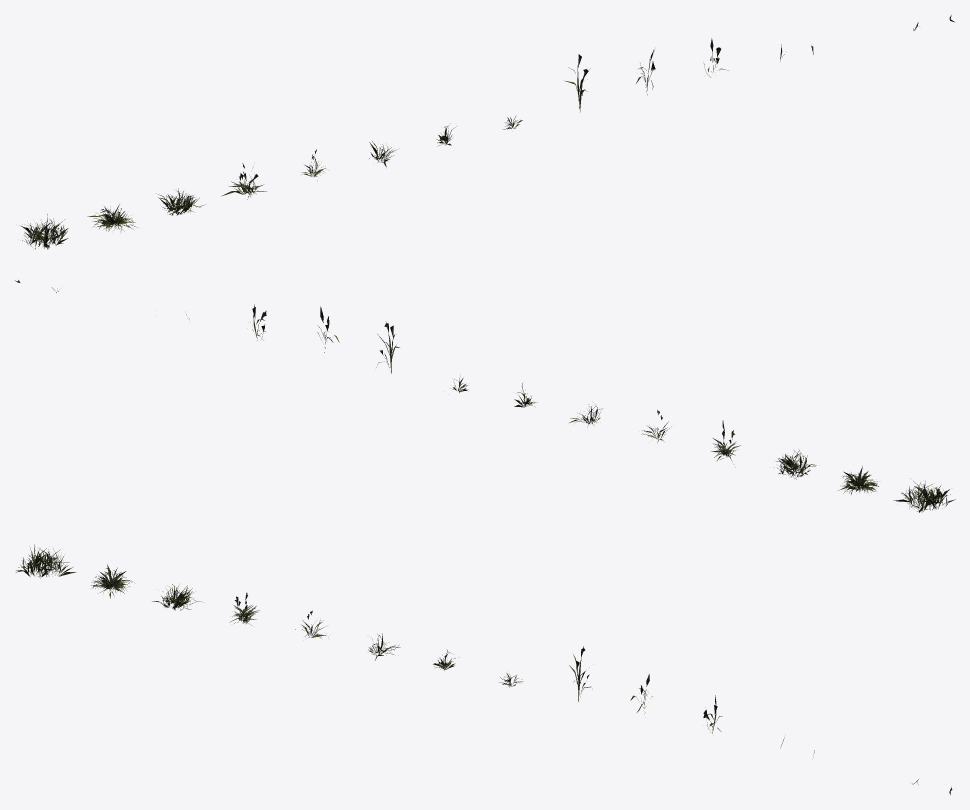
Rendered from grass_medium_01_2k.glb.
3 renders of one model, top to bottom at view 1: azimuth 30°, elevation 25°; view 2: azimuth 150°, elevation 25°; view 3: azimuth 330°, elevation 25°, orthographic.
Parts seen in each view (by area): view 1: grass_medium_01_small_a_LOD0; view 2: grass_medium_01_small_a_LOD0; view 3: grass_medium_01_small_a_LOD0.
Part boxes in pixels (bbox=[...]): grass_medium_01_small_a_LOD0: bbox=[21, 15, 954, 249]; grass_medium_01_small_a_LOD0: bbox=[15, 280, 955, 512]; grass_medium_01_small_a_LOD0: bbox=[16, 544, 952, 794].
Size of the model in its own units: 5.59 by 0.3387 by 0.3264.
Materials: 1 (1 with a texture image).
